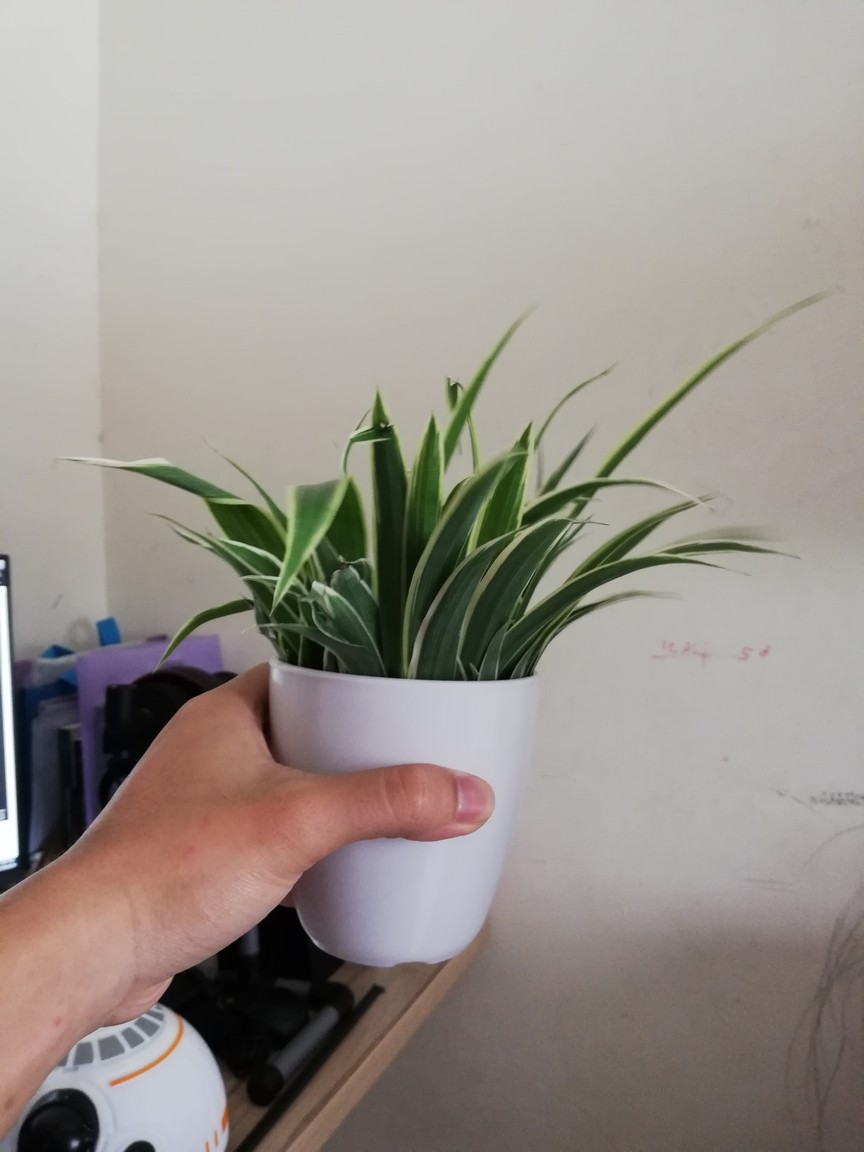daun: (633, 277, 845, 461), (270, 481, 345, 613), (457, 301, 540, 414), (58, 446, 208, 504), (559, 583, 722, 634), (154, 597, 237, 678), (587, 552, 763, 586), (196, 433, 275, 506), (551, 354, 626, 426), (542, 415, 602, 497), (407, 400, 446, 520), (145, 509, 222, 569), (370, 381, 406, 508), (596, 470, 709, 510), (647, 536, 820, 559), (478, 613, 519, 696), (235, 564, 306, 598), (463, 657, 482, 688)
